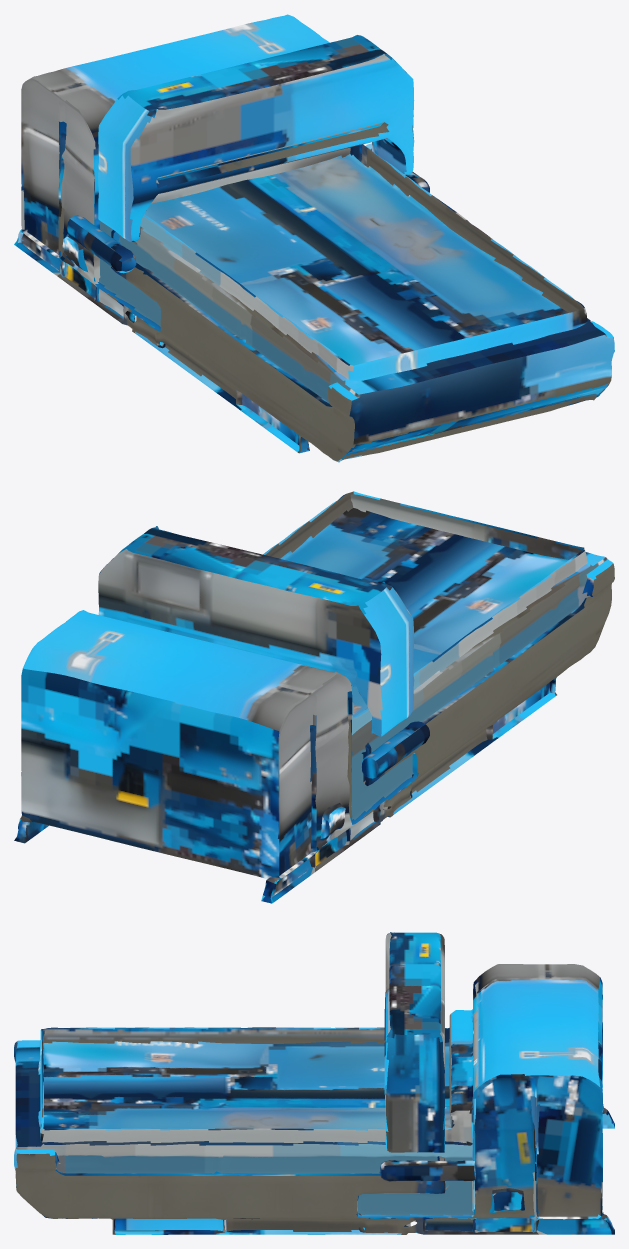
The model's file is Optical_Basic_Shaded.fbx.
3 views of the same model, one above another, from view 1: azimuth 30°, elevation 25°; view 2: azimuth 150°, elevation 25°; view 3: azimuth 270°, elevation 25° (orthographic). The views are drawn at different scales.
Visible parts, largest first — view 1: model; view 2: model; view 3: model.
Part boxes in pixels (x1,y1,x2,y2): model: (14,14,614,462); model: (14,491,614,903); model: (14,932,614,1234).
Bounding box in the file's own units: 101 × 69.11 × 189.
